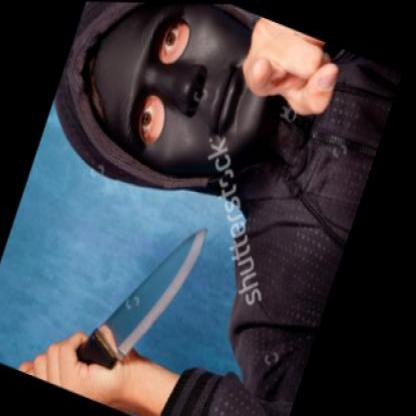knife: (16, 166, 229, 414)
